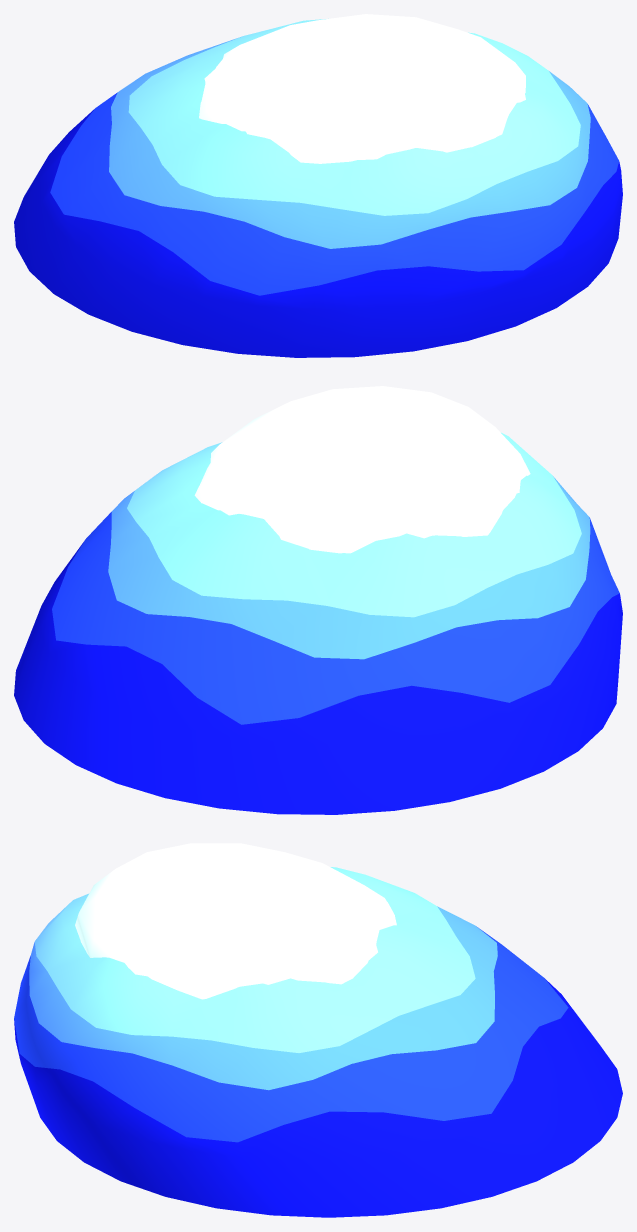
The model's file is shot_eplasma.glb.
3 renders of one model, top to bottom at view 1: azimuth 30°, elevation 25°; view 2: azimuth 150°, elevation 25°; view 3: azimuth 270°, elevation 25°, orthographic. The views are drawn at different scales.
Visible parts, largest first — view 1: shot_eplasma_fire, shot_eplasma_heart; view 2: shot_eplasma_fire, shot_eplasma_heart; view 3: shot_eplasma_fire, shot_eplasma_heart.
Part boxes in pixels (x1=…): shot_eplasma_fire: x1=14, y1=18, x2=622, y2=357; shot_eplasma_heart: x1=199, y1=14, x2=525, y2=163; shot_eplasma_fire: x1=14, y1=432, x2=622, y2=814; shot_eplasma_heart: x1=194, y1=386, x2=530, y2=553; shot_eplasma_fire: x1=14, y1=867, x2=622, y2=1217; shot_eplasma_heart: x1=75, y1=843, x2=396, y2=999.
Size of the model in its own units: 10 by 4.3 by 10.35.
